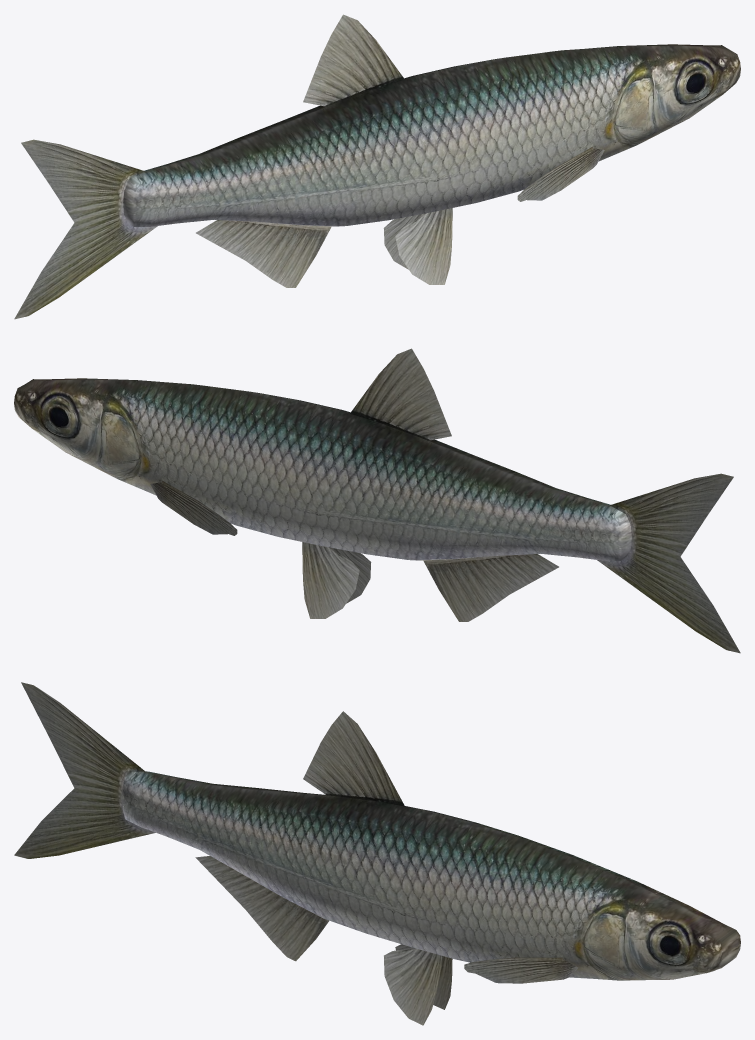
Rendered from Bleak.glb.
3 views of the same model, one above another, from view 1: azimuth 30°, elevation 25°; view 2: azimuth 150°, elevation 25°; view 3: azimuth 330°, elevation 25° (orthographic).
Parts seen in each view (by area): view 1: Bleak; view 2: Bleak; view 3: Bleak.
Part boxes in pixels (x1,y1,x2,y2): Bleak: [14, 14, 740, 319]; Bleak: [14, 348, 740, 653]; Bleak: [14, 682, 740, 1025].
Bounding box in the file's own units: 2 × 0.751 × 0.2557.
1 material, 1 textured.
